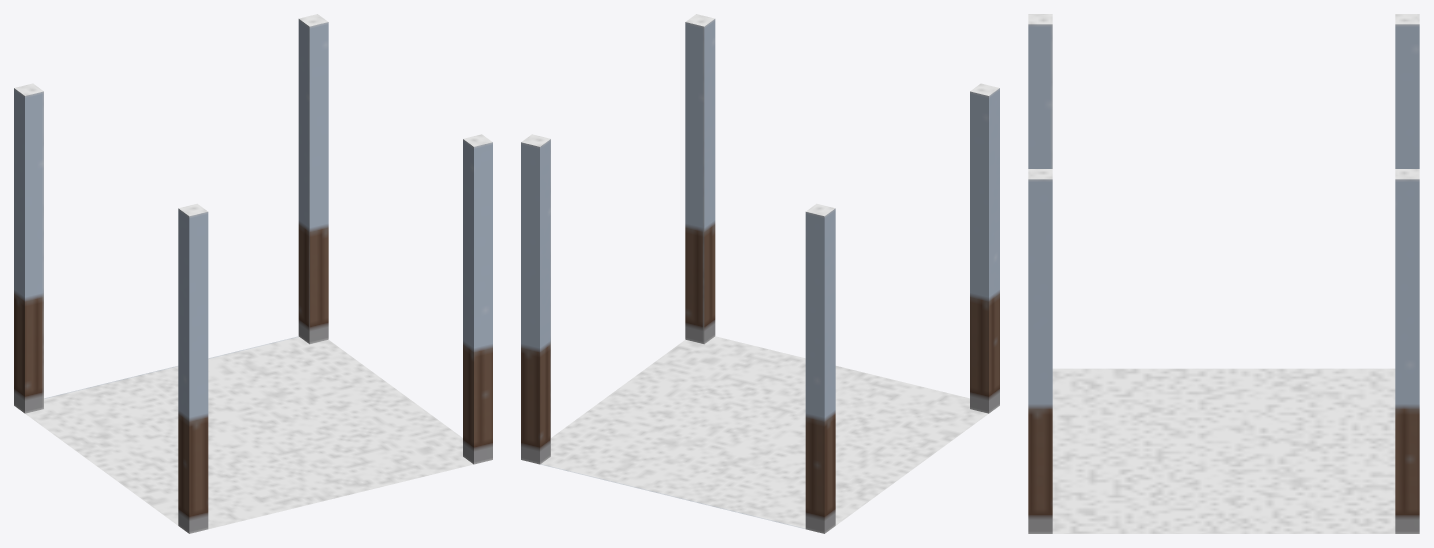
Rendered from hallWide4way.fbx.
The picture shows the model from 3 angles, left to right: view 1: azimuth 30°, elevation 25°; view 2: azimuth 150°, elevation 25°; view 3: azimuth 270°, elevation 25°; orthographic projection. The views are drawn at different scales.
Visible parts, largest first — view 1: WideHall4Way1; view 2: WideHall4Way1; view 3: WideHall4Way1.
Part boxes in pixels (x1,y1,x2,y2): WideHall4Way1: (14, 14, 492, 533); WideHall4Way1: (521, 14, 999, 533); WideHall4Way1: (1028, 14, 1419, 533).
Size of the model in its own units: 4 by 4 by 4.
